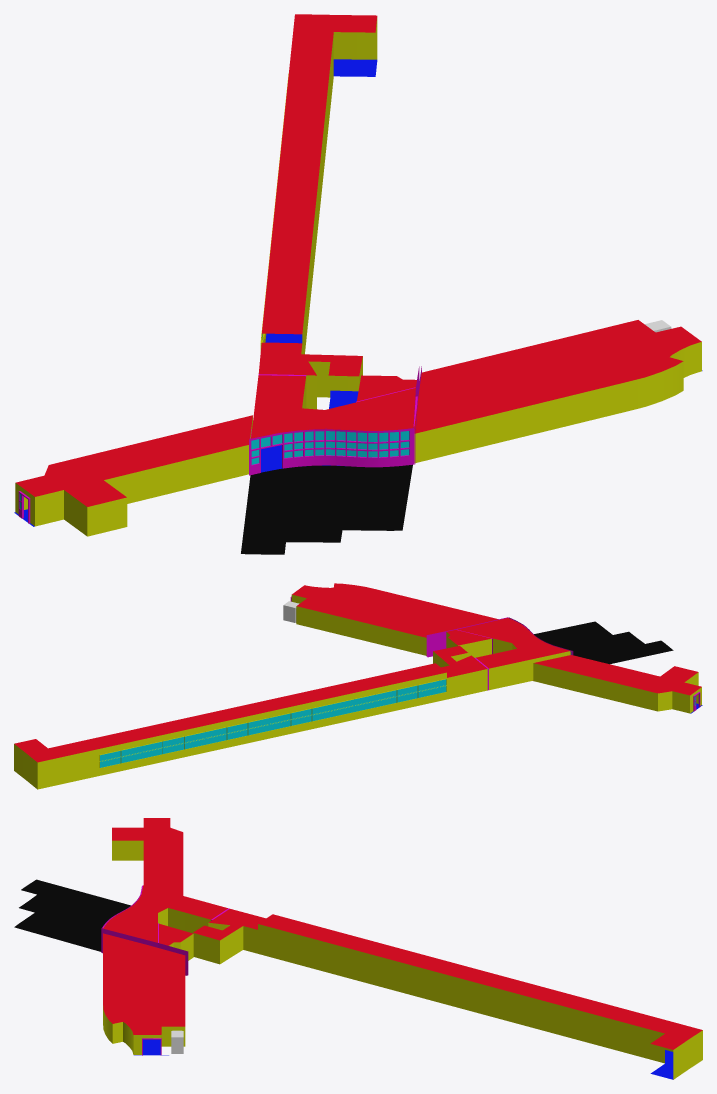
Rendered from GBW LvL1.fbx.
3 renders of one model, top to bottom at view 1: azimuth 30°, elevation 25°; view 2: azimuth 150°, elevation 25°; view 3: azimuth 270°, elevation 25°, orthographic. The views are drawn at different scales.
Parts seen in each view (by area): view 1: GBWB F1Plafond, GBWB F1Muren, GBWB F1???, MainmenuRamen, MainmenuRamen(Ramen), GBWB F1Vloer; view 2: GBWB F1Plafond, GBWB F1Muren, BrugRaam, GBWB F1???, HallwayBoarder; view 3: GBWB F1Plafond, GBWB F1Muren, GBWB F1???, GBWB F1Vloer, HallwayBoarder.
Part boxes in pixels (left/top/right/bottom): GBWB F1Plafond: left=16, top=14, right=701, bottom=506; GBWB F1Muren: left=15, top=18, right=701, bottom=536; GBWB F1???: left=241, top=464, right=412, bottom=554; MainmenuRamen: left=249, top=428, right=414, bottom=475; MainmenuRamen(Ramen): left=251, top=431, right=409, bottom=464; GBWB F1Vloer: left=14, top=59, right=702, bottom=526; GBWB F1Plafond: left=14, top=583, right=701, bottom=762; GBWB F1Muren: left=14, top=594, right=701, bottom=789; BrugRaam: left=100, top=679, right=446, bottom=767; GBWB F1???: left=534, top=621, right=673, bottom=664; HallwayBoarder: left=426, top=617, right=508, bottom=657; GBWB F1Plafond: left=103, top=818, right=702, bottom=1049; GBWB F1Muren: left=103, top=840, right=702, bottom=1079; GBWB F1???: left=14, top=879, right=130, bottom=951; GBWB F1Vloer: left=134, top=1039, right=673, bottom=1079; HallwayBoarder: left=101, top=928, right=188, bottom=975.
Size of the model in its own units: 6520 by 376 by 7828.
